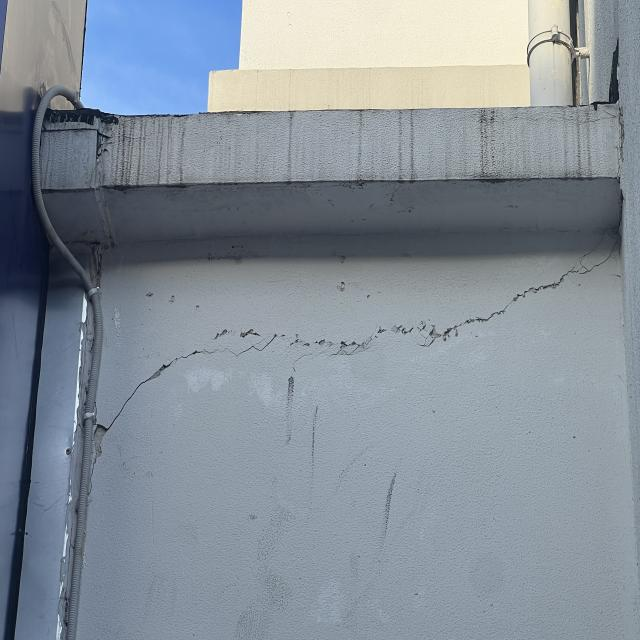crack: (97, 257, 610, 440)
